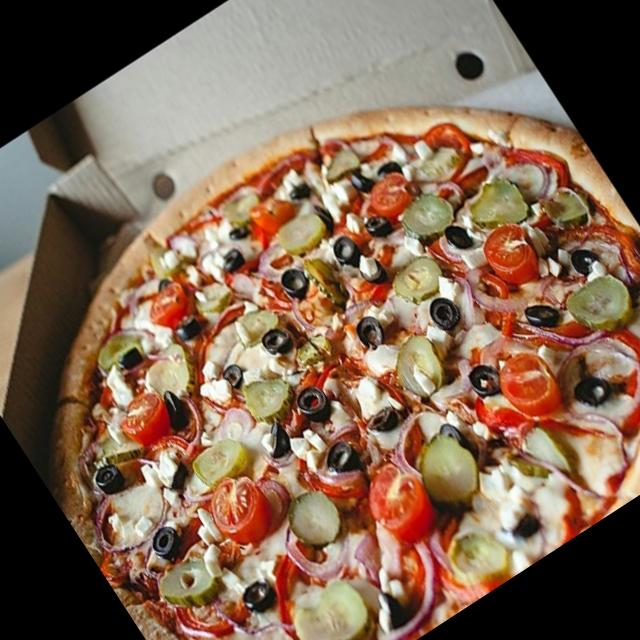black_olives: (518, 286, 570, 338), (291, 378, 339, 431), (420, 286, 468, 338), (566, 366, 614, 416), (318, 434, 368, 482), (462, 354, 509, 405), (234, 572, 280, 618), (144, 520, 189, 566), (346, 157, 390, 204), (156, 388, 198, 437), (276, 260, 320, 306), (351, 248, 393, 296), (325, 228, 366, 274), (436, 414, 476, 461), (351, 314, 392, 358), (438, 215, 478, 259), (361, 398, 403, 438), (262, 420, 300, 462), (372, 588, 410, 630), (92, 456, 130, 496), (160, 458, 198, 496), (256, 319, 294, 356), (372, 153, 406, 190), (362, 208, 396, 244), (170, 310, 206, 344), (566, 242, 600, 278), (113, 340, 147, 374), (284, 175, 316, 207), (218, 359, 248, 390), (226, 218, 256, 248), (217, 246, 244, 275)
pizza: (54, 106, 640, 640)
